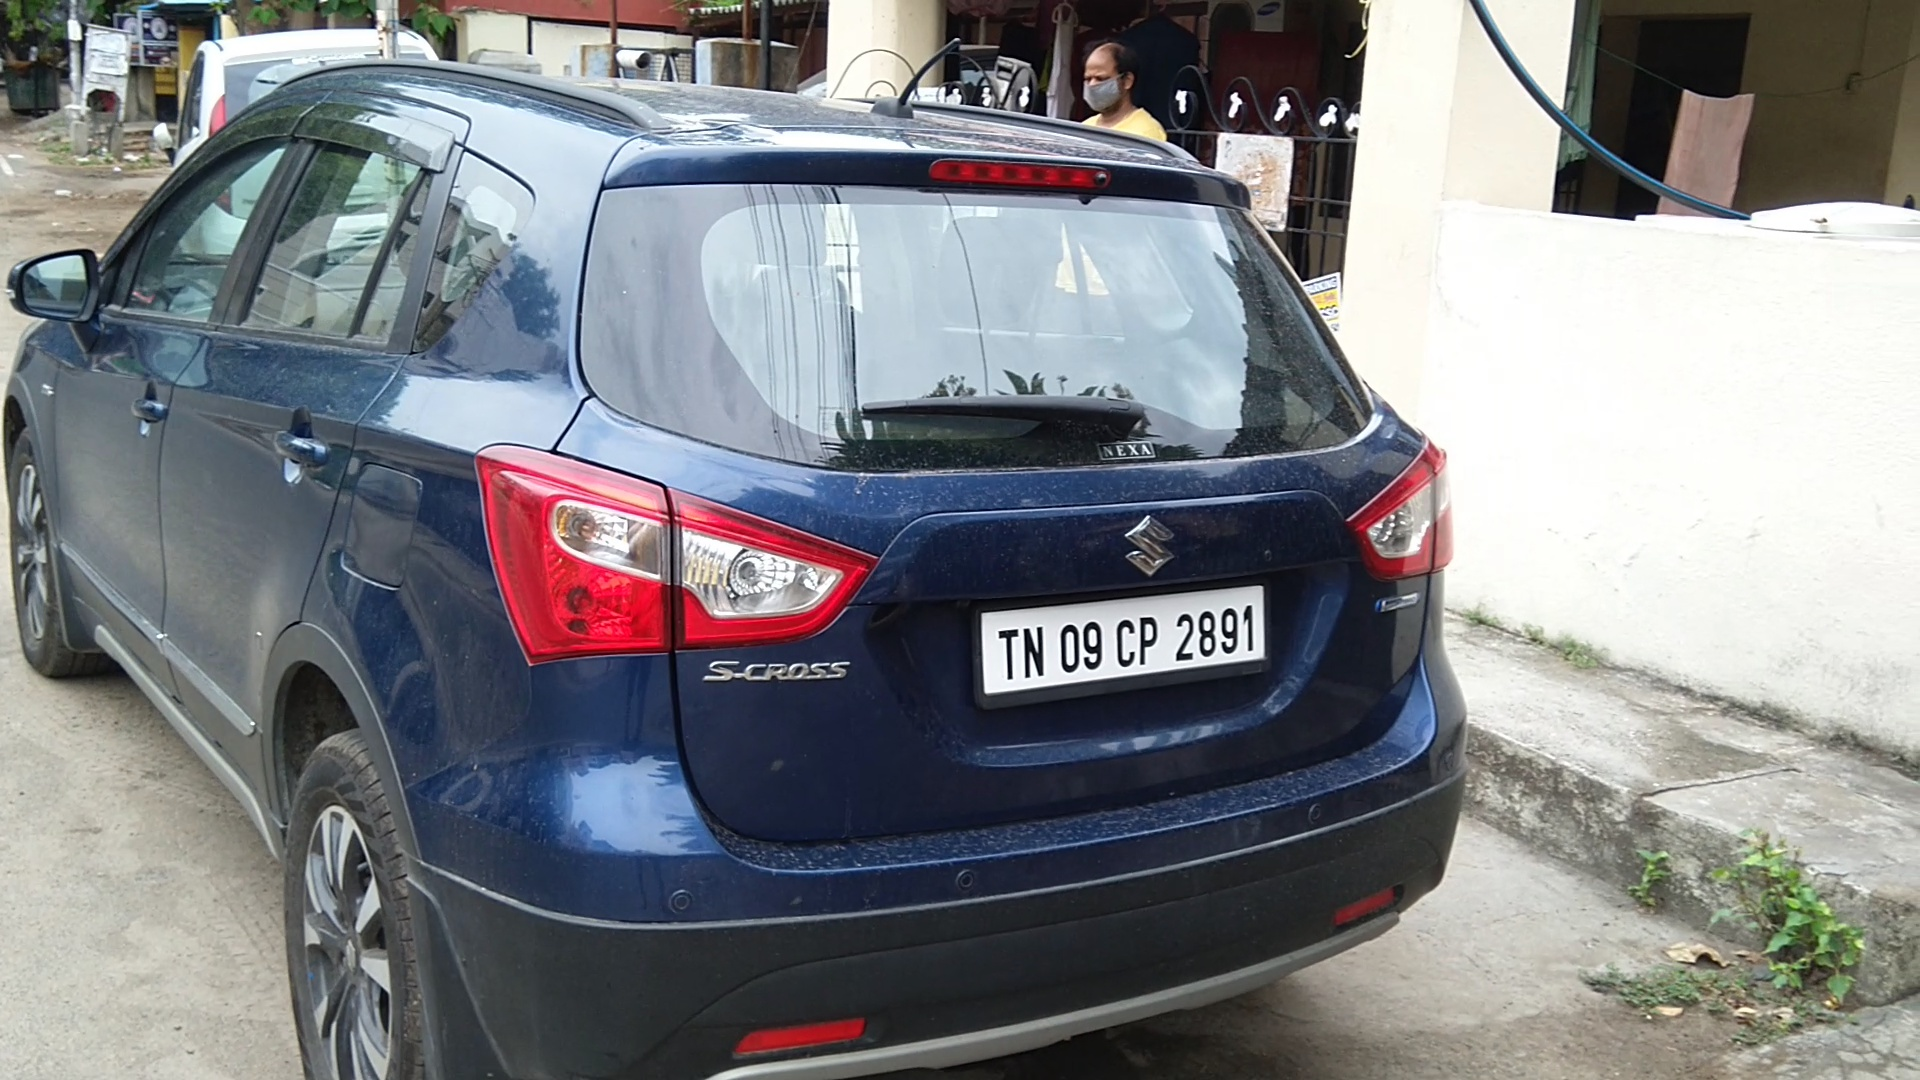alloy_wheel: (294, 735, 405, 1080), (5, 443, 47, 675)
rear_camera: (1085, 158, 1124, 196)
shvs: (1373, 582, 1432, 618)
